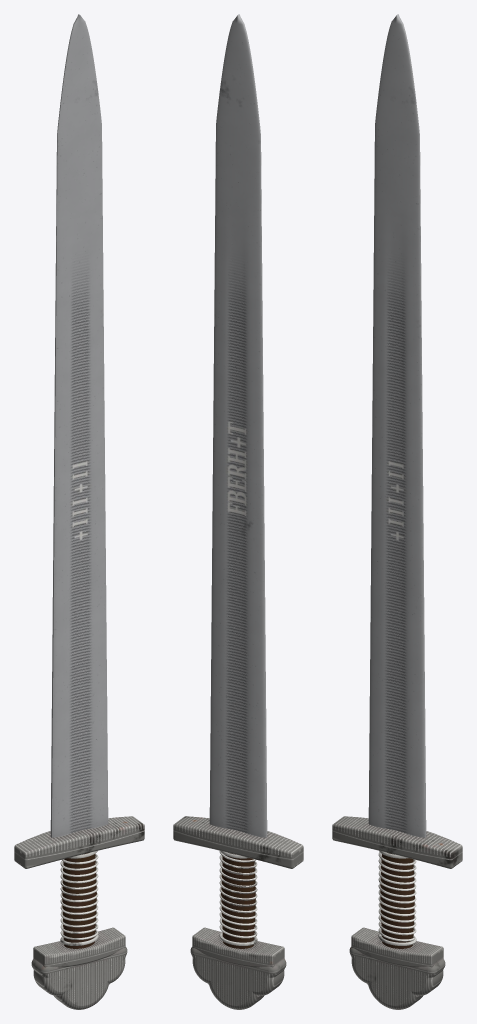
Rendered from viking_sword.glb.
The picture shows the model from 3 angles, left to right: view 1: azimuth 30°, elevation 25°; view 2: azimuth 150°, elevation 25°; view 3: azimuth 330°, elevation 25°; orthographic projection.
Visible parts, largest first — view 1: viking_sword; view 2: viking_sword; view 3: viking_sword.
Boxes of the visible parts, left/top/right/bottom form: viking_sword: left=14, top=14, right=144, bottom=1009; viking_sword: left=173, top=14, right=303, bottom=1009; viking_sword: left=332, top=14, right=462, bottom=1009.
Bounding box in the file's own units: 0.118 × 0.9297 × 0.028.
1 material, 1 textured.
